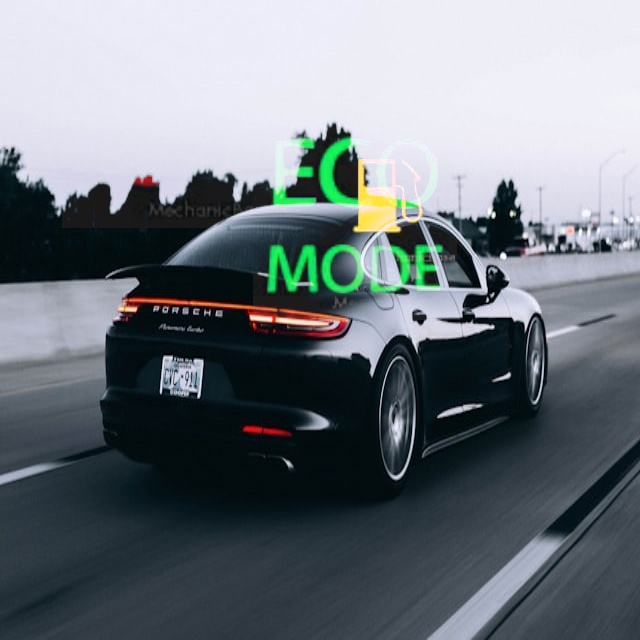symbol: (62, 8, 282, 228), (253, 116, 457, 320), (316, 124, 461, 269)
